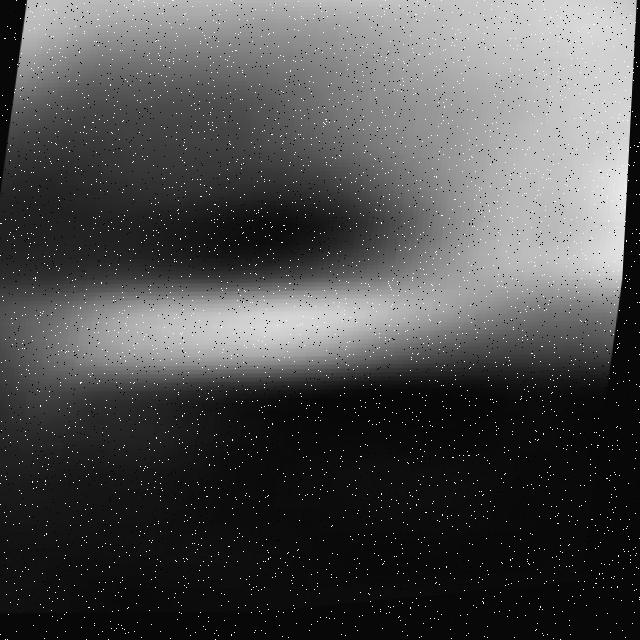person: (1, 1, 640, 562)
